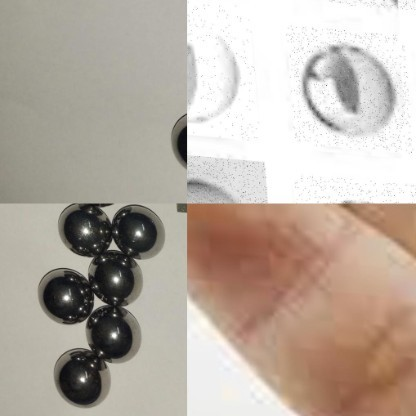ironball: (283, 21, 409, 148), (187, 0, 256, 138), (81, 249, 150, 314), (83, 302, 148, 368), (288, 170, 415, 203), (54, 347, 118, 412), (31, 266, 97, 326), (109, 202, 173, 259), (54, 201, 113, 261)
